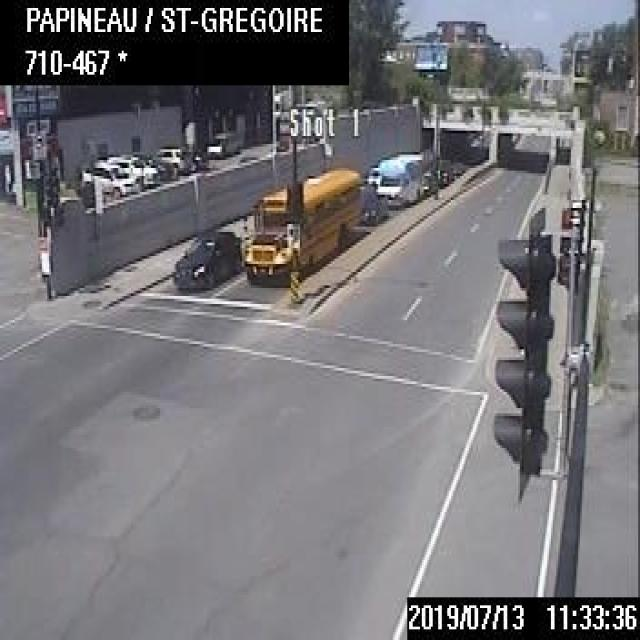bus: (242, 162, 360, 277), (377, 150, 423, 201)
vehicle: (171, 228, 238, 290), (82, 156, 137, 195), (110, 151, 155, 191), (360, 185, 388, 226), (155, 145, 196, 173), (206, 127, 240, 160), (433, 156, 451, 187)
